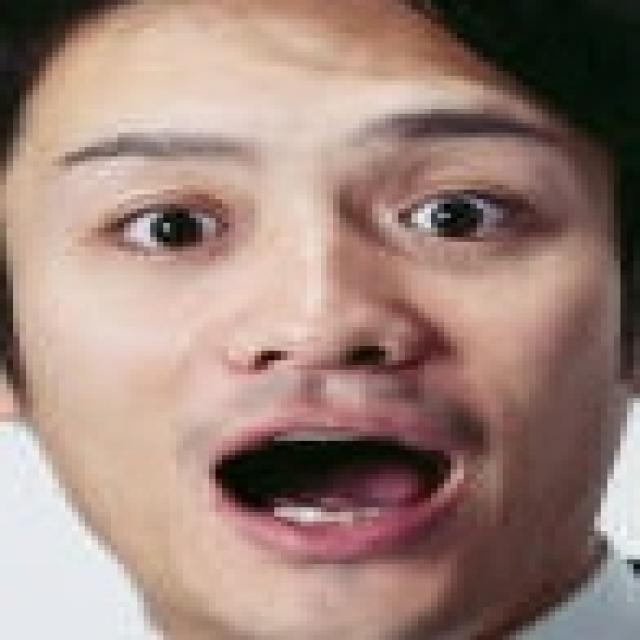Anxiety: (0, 0, 626, 635)
